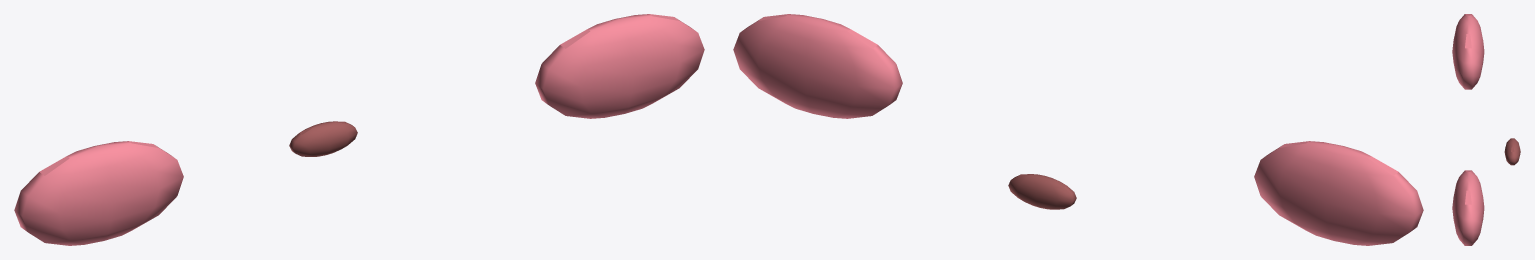
Rendered from Face_Rosy.fbx.
The picture shows the model from 3 angles, left to right: view 1: azimuth 30°, elevation 25°; view 2: azimuth 150°, elevation 25°; view 3: azimuth 270°, elevation 25°; orthographic projection. The views are drawn at different scales.
Parts seen in each view (by area): view 1: Cheek, Cheek.001, Mouth; view 2: Cheek, Cheek.001, Mouth; view 3: Cheek, Cheek.001, Mouth.
Part boxes in pixels (left/top/right/bottom): Cheek: left=535, top=14, right=704, bottom=118; Cheek.001: left=14, top=141, right=183, bottom=245; Mouth: left=289, top=121, right=357, bottom=156; Cheek: left=733, top=14, right=902, bottom=118; Cheek.001: left=1254, top=141, right=1423, bottom=245; Mouth: left=1008, top=174, right=1076, bottom=209; Cheek: left=1452, top=170, right=1484, bottom=245; Cheek.001: left=1452, top=14, right=1484, bottom=89; Mouth: left=1504, top=138, right=1520, bottom=165.
Size of the model in its own units: 60.27 by 8.3 by 8.5.
